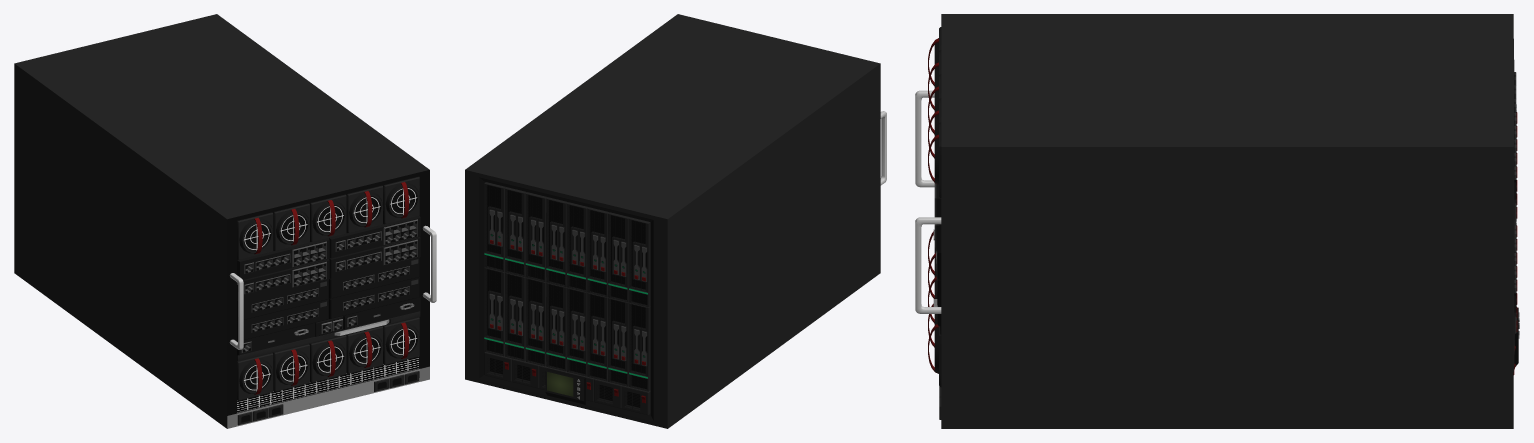
File: HPE_BladeSystem_C7000.fbx
The picture shows the model from 3 angles, left to right: view 1: azimuth 30°, elevation 25°; view 2: azimuth 150°, elevation 25°; view 3: azimuth 270°, elevation 25°; orthographic projection. The views are drawn at different scales.
Visible parts, largest first — view 1: HPE_BladeSystem_C7000; view 2: HPE_BladeSystem_C7000; view 3: HPE_BladeSystem_C7000.
Part boxes in pixels (left/top/right/bottom): HPE_BladeSystem_C7000: left=14, top=14, right=436, bottom=428; HPE_BladeSystem_C7000: left=465, top=14, right=886, bottom=428; HPE_BladeSystem_C7000: left=915, top=14, right=1519, bottom=428.
Size of the model in its own units: 447 by 442 by 859.
22 materials, 4 textured.
